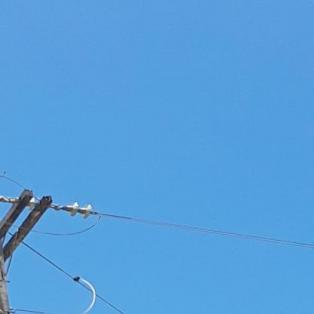Poste: (0, 180, 58, 313)
